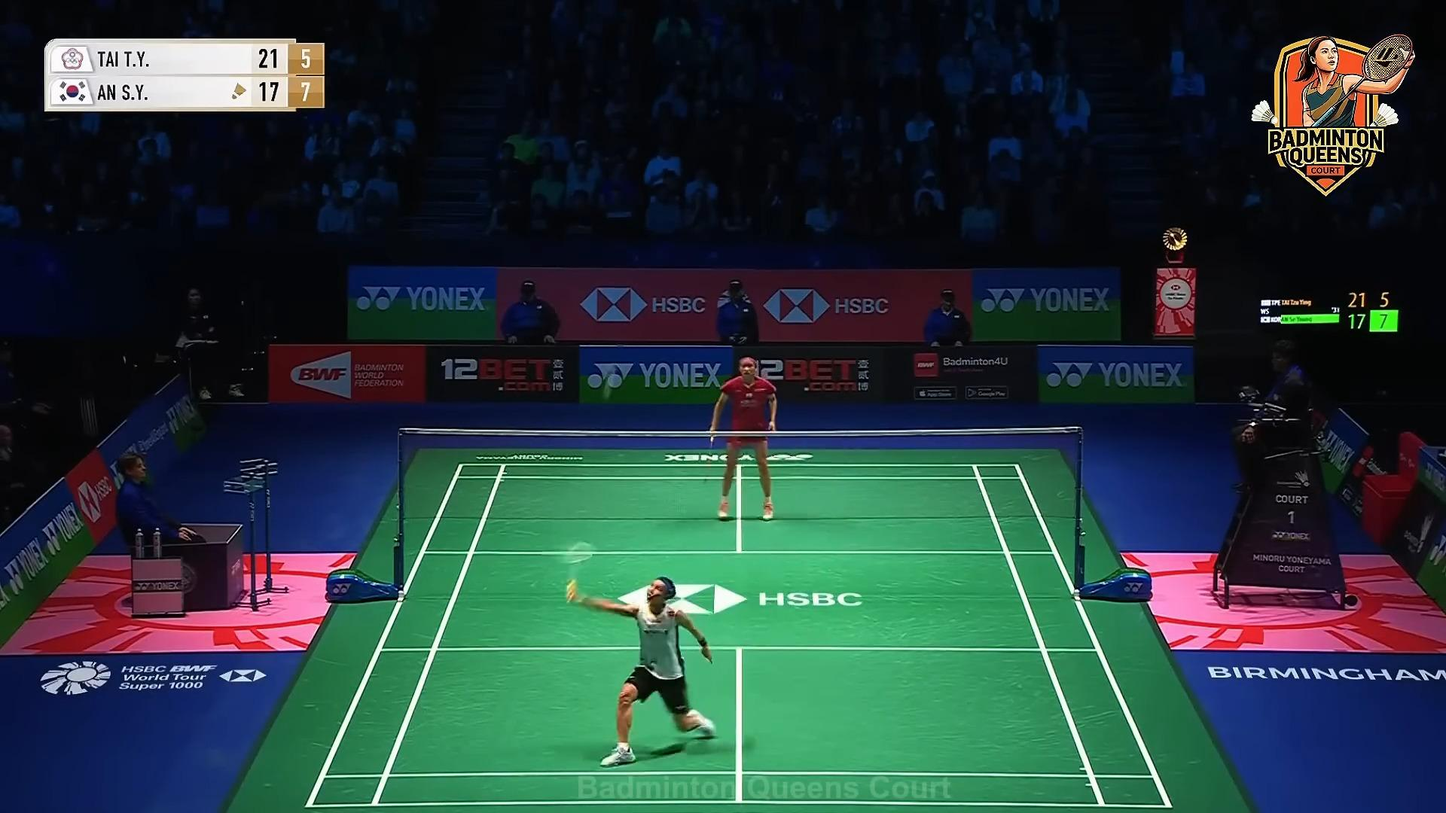shuttlecock: (602, 365, 615, 402)
